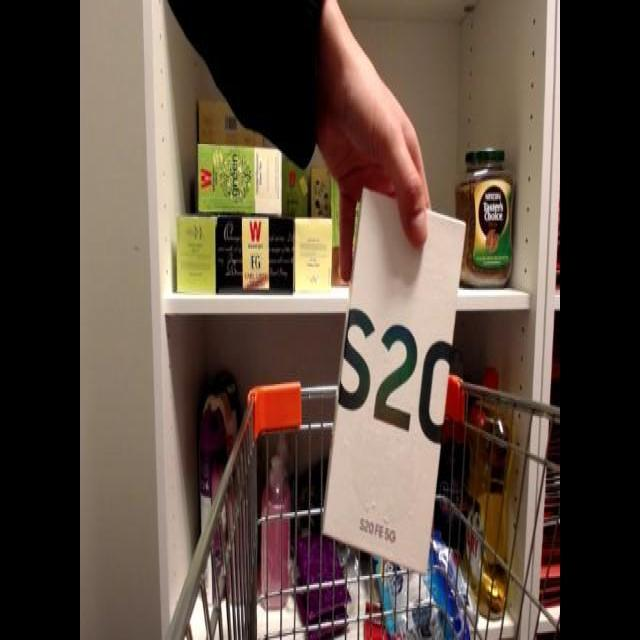Samsung S20: (314, 191, 472, 577)
